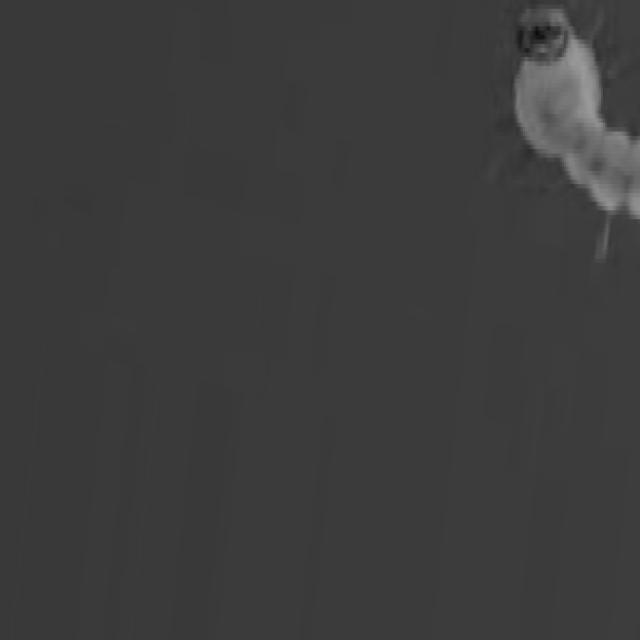larvas: (512, 0, 640, 219)
